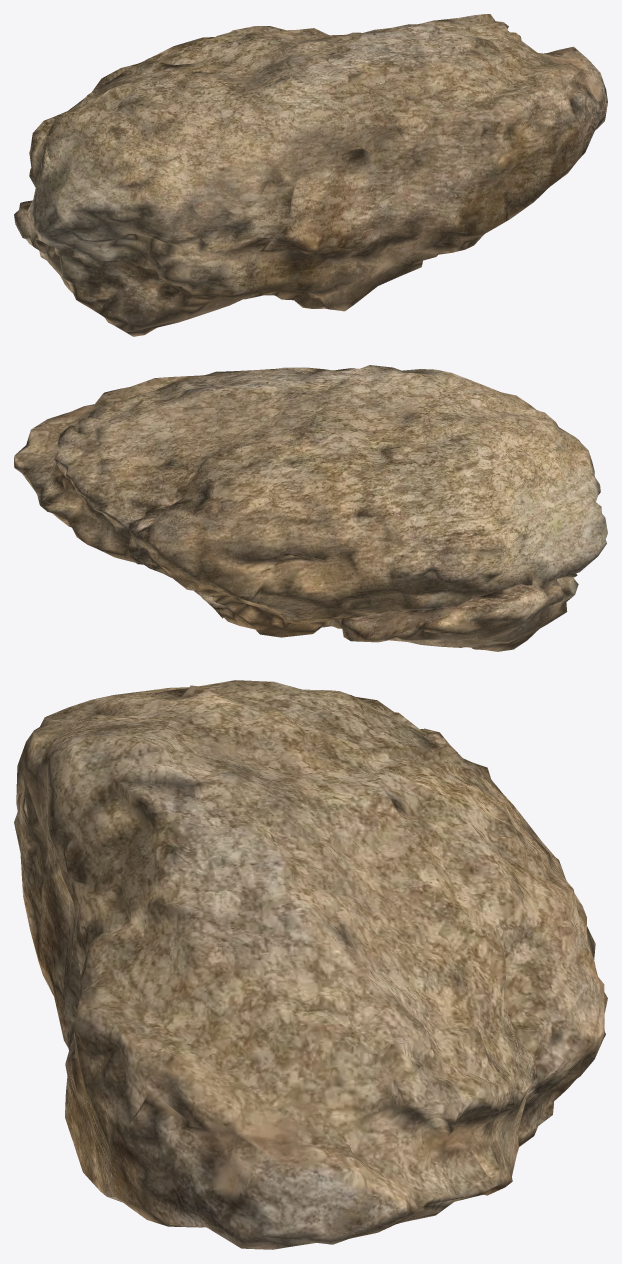
The model's file is namaqualand_boulder_05.light.glb.
3 renders of one model, top to bottom at view 1: azimuth 30°, elevation 25°; view 2: azimuth 150°, elevation 25°; view 3: azimuth 270°, elevation 25°, orthographic. The views are drawn at different scales.
Visible parts, largest first — view 1: namaqualand_boulder_05; view 2: namaqualand_boulder_05; view 3: namaqualand_boulder_05.
Part boxes in pixels (bbox=[...]): namaqualand_boulder_05: bbox=[14, 14, 607, 336]; namaqualand_boulder_05: bbox=[14, 365, 607, 651]; namaqualand_boulder_05: bbox=[14, 680, 607, 1249].
Bounding box in the file's own units: 2 × 0.7826 × 1.09.
Materials: 1 (1 with a texture image).
